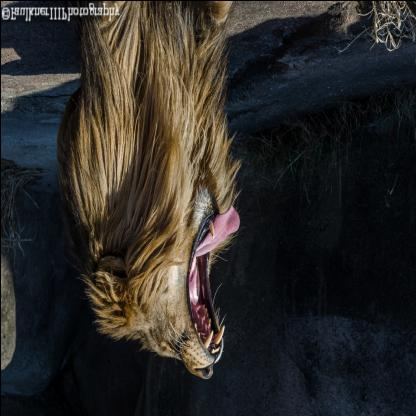lion: (86, 146, 245, 393)
